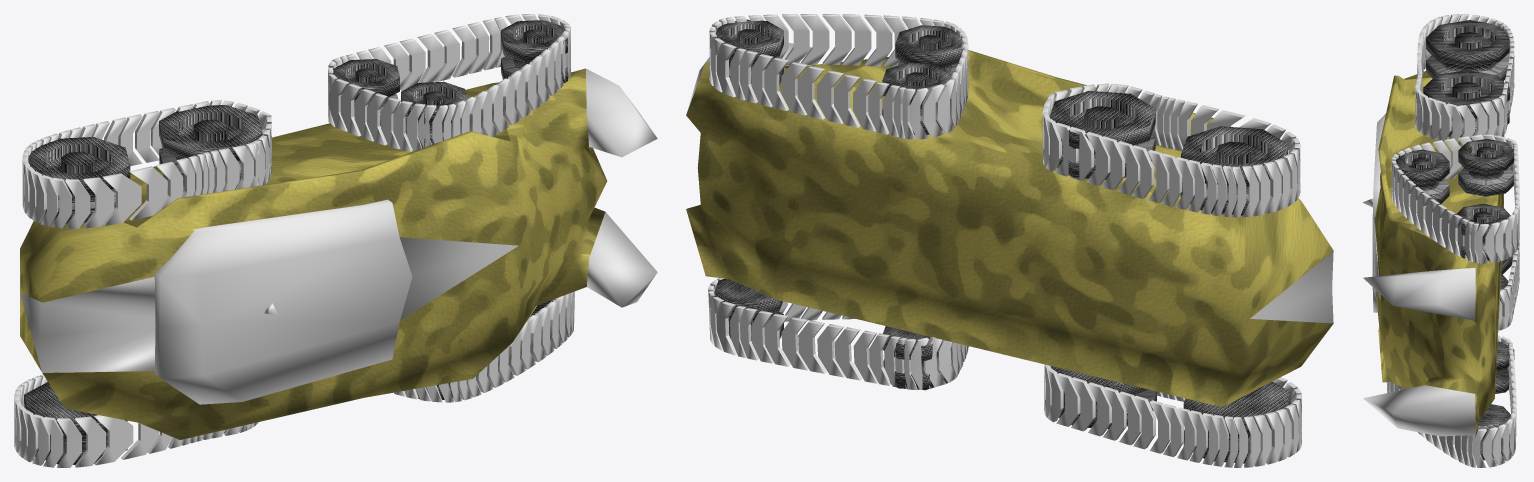
File: Dozer.fbx
The picture shows the model from 3 angles, left to right: view 1: azimuth 30°, elevation 25°; view 2: azimuth 150°, elevation 25°; view 3: azimuth 270°, elevation 25°; orthographic projection. The views are drawn at different scales.
Parts seen in each view (by area): view 1: Body0, Color1, Color0, Cylinder09_None; view 2: Body0, Color0, Cylinder09_None, Color1; view 3: Body0, Color0, Cylinder09_None, Color1.
Boxes of the visible parts, x1=… form: Body0: x1=20, y1=68, x2=607, y2=439; Color1: x1=20, y1=68, x2=657, y2=404; Color0: x1=14, y1=14, x2=574, y2=467; Cylinder09_None: x1=24, y1=20, x2=567, y2=464; Body0: x1=686, y1=50, x2=1333, y2=407; Color0: x1=708, y1=14, x2=1301, y2=467; Cylinder09_None: x1=714, y1=19, x2=1290, y2=463; Color1: x1=686, y1=43, x2=1333, y2=323; Body0: x1=1374, y1=71, x2=1504, y2=434; Color0: x1=1387, y1=14, x2=1519, y2=467; Cylinder09_None: x1=1395, y1=20, x2=1514, y2=460; Color1: x1=1363, y1=113, x2=1475, y2=436.
Size of the model in its own units: 141 by 66.88 by 39.49.
Materials: 2 (2 with a texture image).
